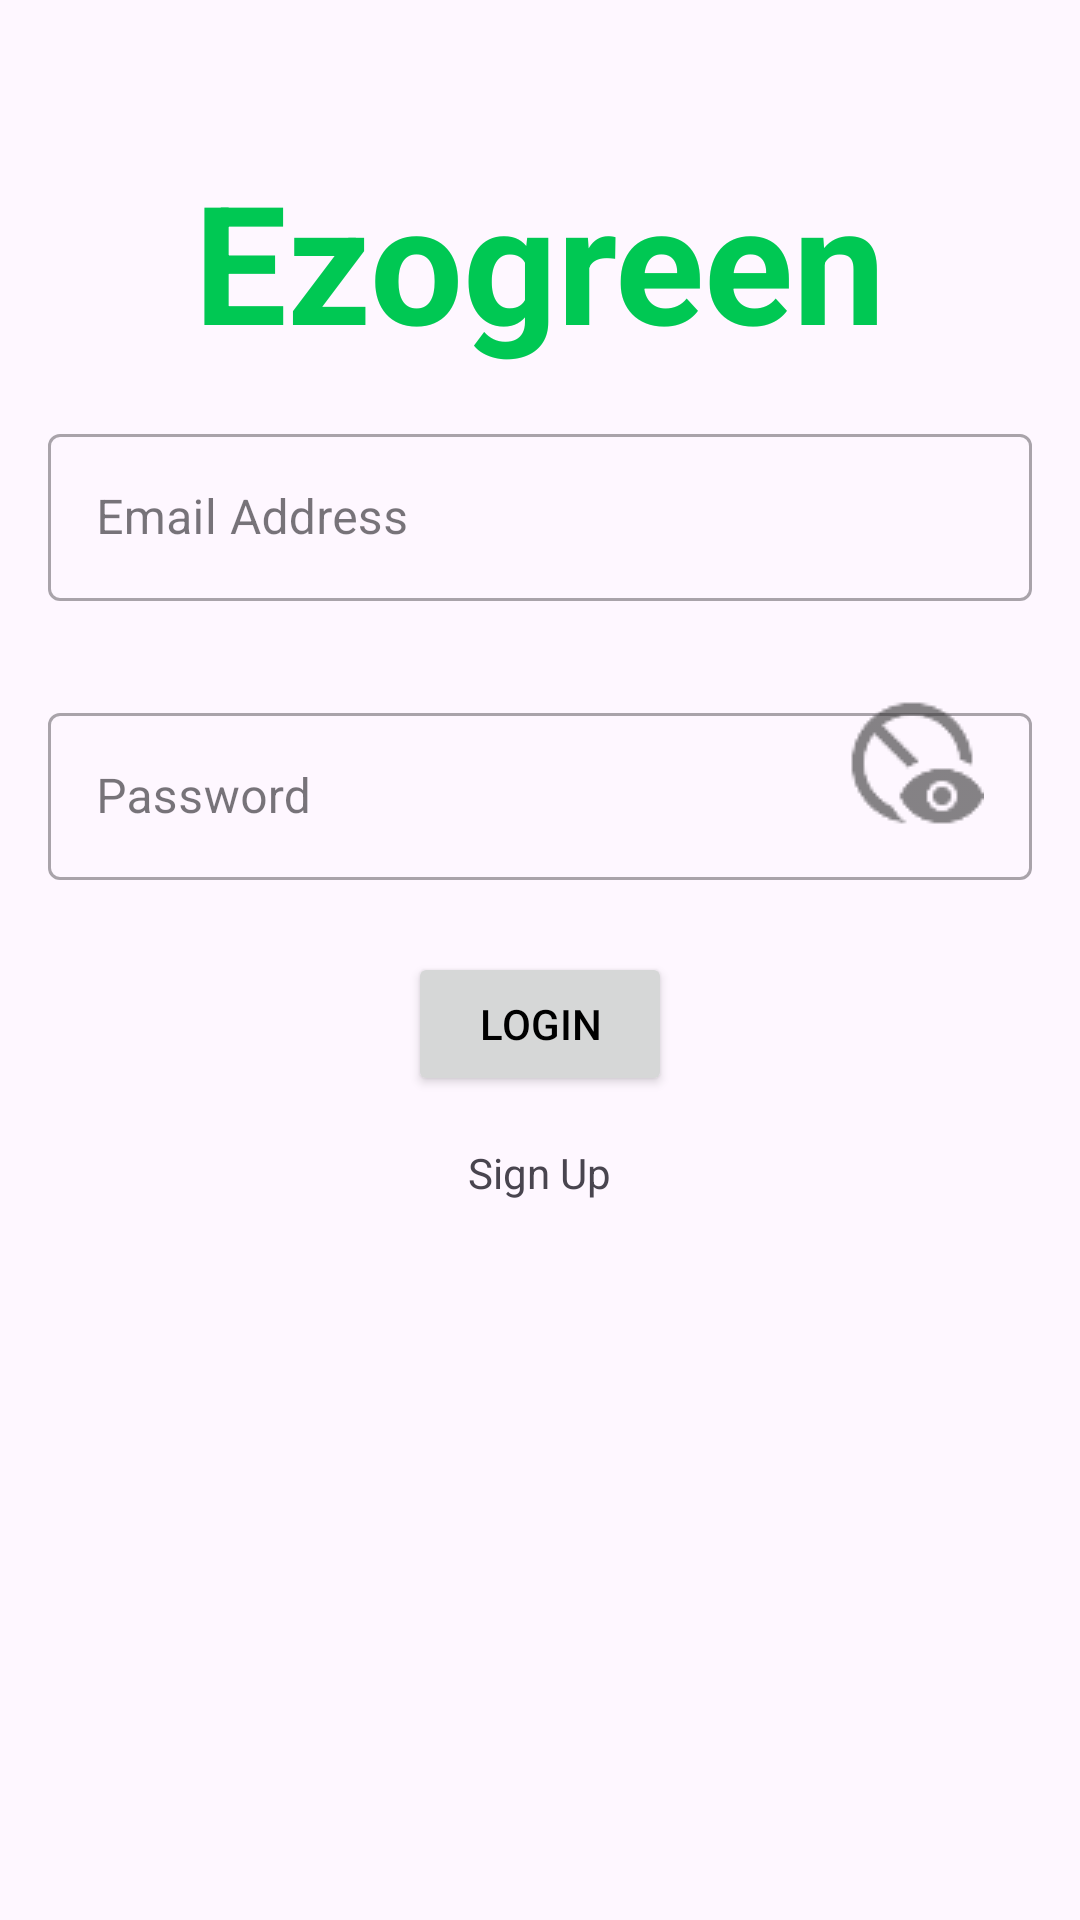

Named icons in this screenshot (1080 × 1920) and their bounding boxes, (x1, y1, x2, y2):
closeeye: (840, 702, 984, 824)
